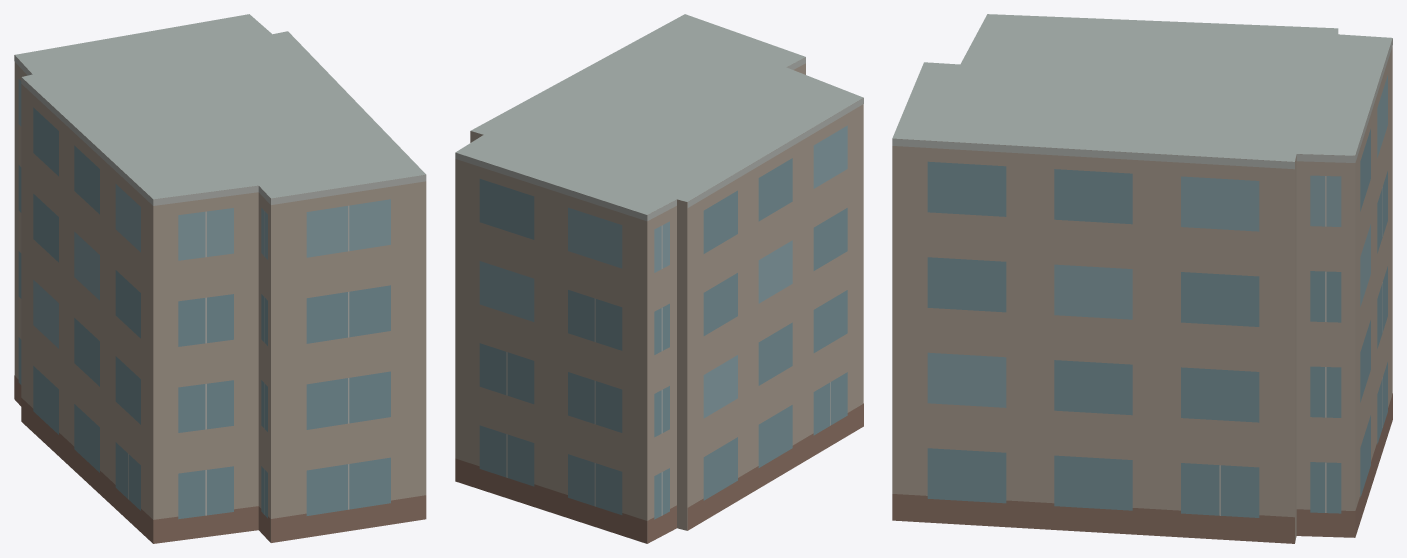
The model's file is survey-upis-32648911.glb.
3 views of the same model, side by side, from view 1: azimuth 30°, elevation 25°; view 2: azimuth 150°, elevation 25°; view 3: azimuth 270°, elevation 25° (orthographic). The views are drawn at different scales.
Parts seen in each view (by area): view 1: survey-upis-32648911.tmp; view 2: survey-upis-32648911.tmp; view 3: survey-upis-32648911.tmp.
Part boxes in pixels (x1=…): survey-upis-32648911.tmp: x1=14, y1=14, x2=426, y2=543; survey-upis-32648911.tmp: x1=455, y1=14, x2=863, y2=543; survey-upis-32648911.tmp: x1=892, y1=14, x2=1392, y2=543.
Size of the model in its own units: 10.56 by 12.7 by 15.09.
